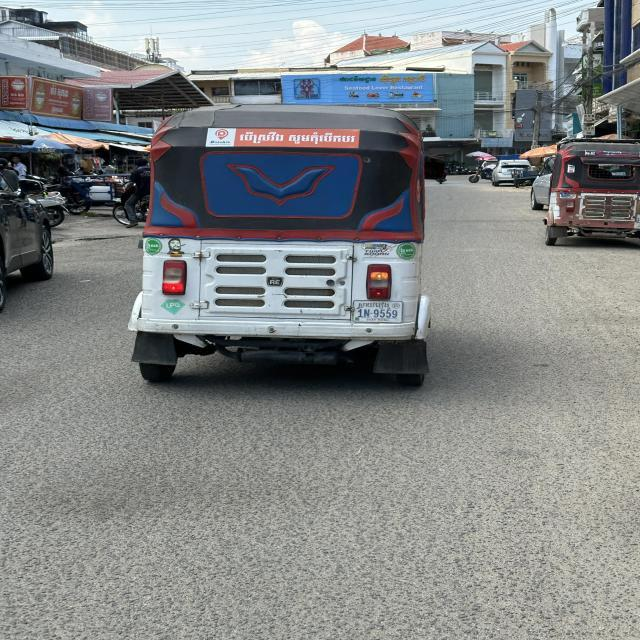Svay_Rieng: (357, 301, 392, 310)
